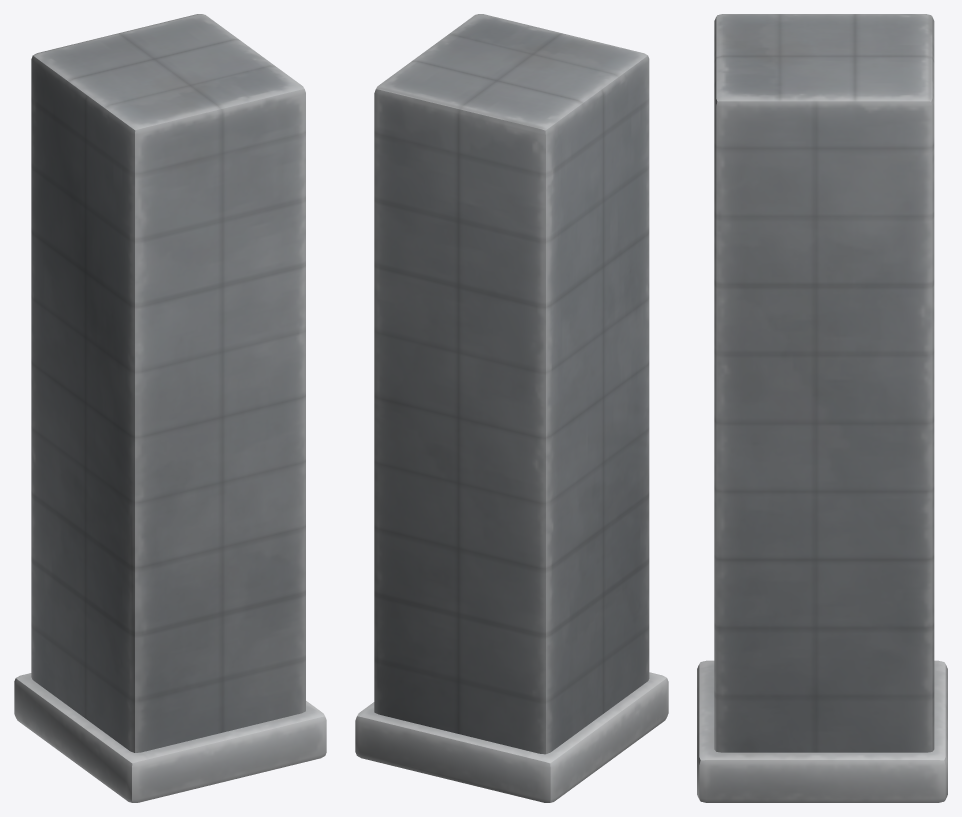
File: anime-wall-pillar.glb
3 renders of one model, left to right at view 1: azimuth 30°, elevation 25°; view 2: azimuth 150°, elevation 25°; view 3: azimuth 270°, elevation 25°, orthographic. The views are drawn at different scales.
Visible parts, largest first — view 1: anime-wall-pillar; view 2: anime-wall-pillar; view 3: anime-wall-pillar.
Part boxes in pixels (x1,y1,x2,y2): anime-wall-pillar: [14, 14, 326, 802]; anime-wall-pillar: [355, 14, 668, 802]; anime-wall-pillar: [697, 14, 947, 802].
Size of the model in its own units: 0.5667 by 1.82 by 0.5928.
Materials: 1 (1 with a texture image).
